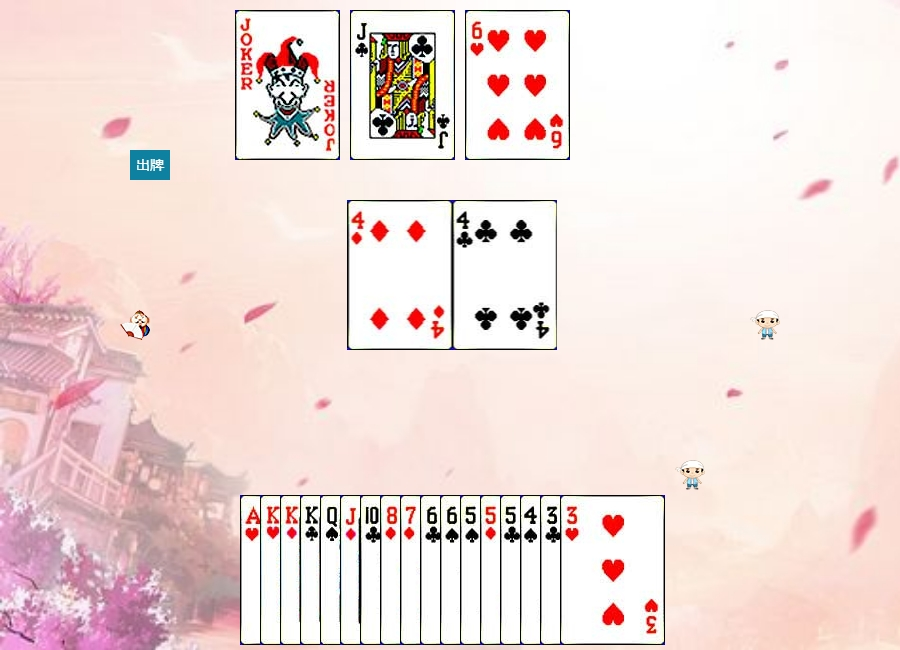10~2: (360, 495, 465, 645)
11~1: (340, 495, 445, 645)
11~2: (350, 10, 455, 160)
12~4: (320, 495, 425, 645)
13~1: (280, 495, 385, 645)
13~2: (300, 495, 405, 645)
13~3: (260, 495, 365, 645)
14~3: (240, 495, 345, 645)
18~4: (235, 10, 340, 160)
3~2: (540, 495, 645, 645)
3~3: (560, 495, 665, 645)
4~1: (348, 200, 453, 350)
4~2: (453, 200, 558, 350)
4~4: (520, 495, 625, 645)
5~1: (480, 495, 585, 645)
5~2: (500, 495, 605, 645)
5~4: (460, 495, 565, 645)
6~2: (420, 495, 525, 645)
6~3: (465, 10, 570, 160)
6~4: (440, 495, 545, 645)
7~1: (400, 495, 505, 645)
8~1: (380, 495, 485, 645)
